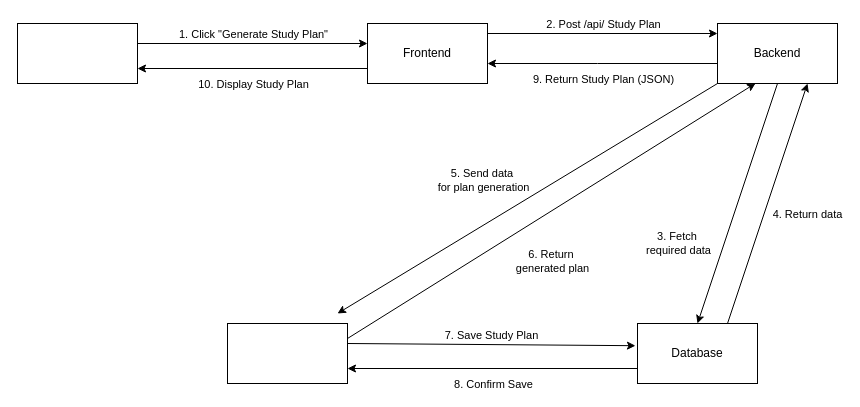
Some shapes in this 860 by 407 pixel diagram are drawn without their labels. Each missing label, with the centre of its shape:
"AI Workflow" goes at point 287,353.
"Student" goes at point 77,53.
